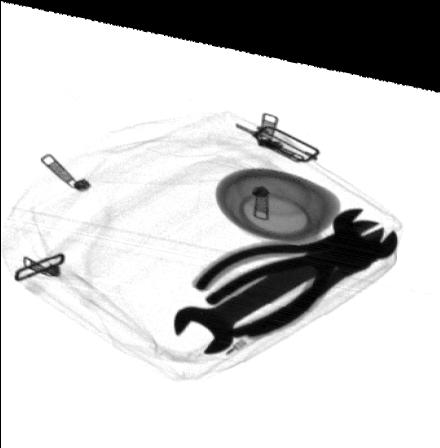Pliers: (190, 200, 386, 329), (203, 222, 386, 333)
Wrench: (171, 193, 397, 346)
